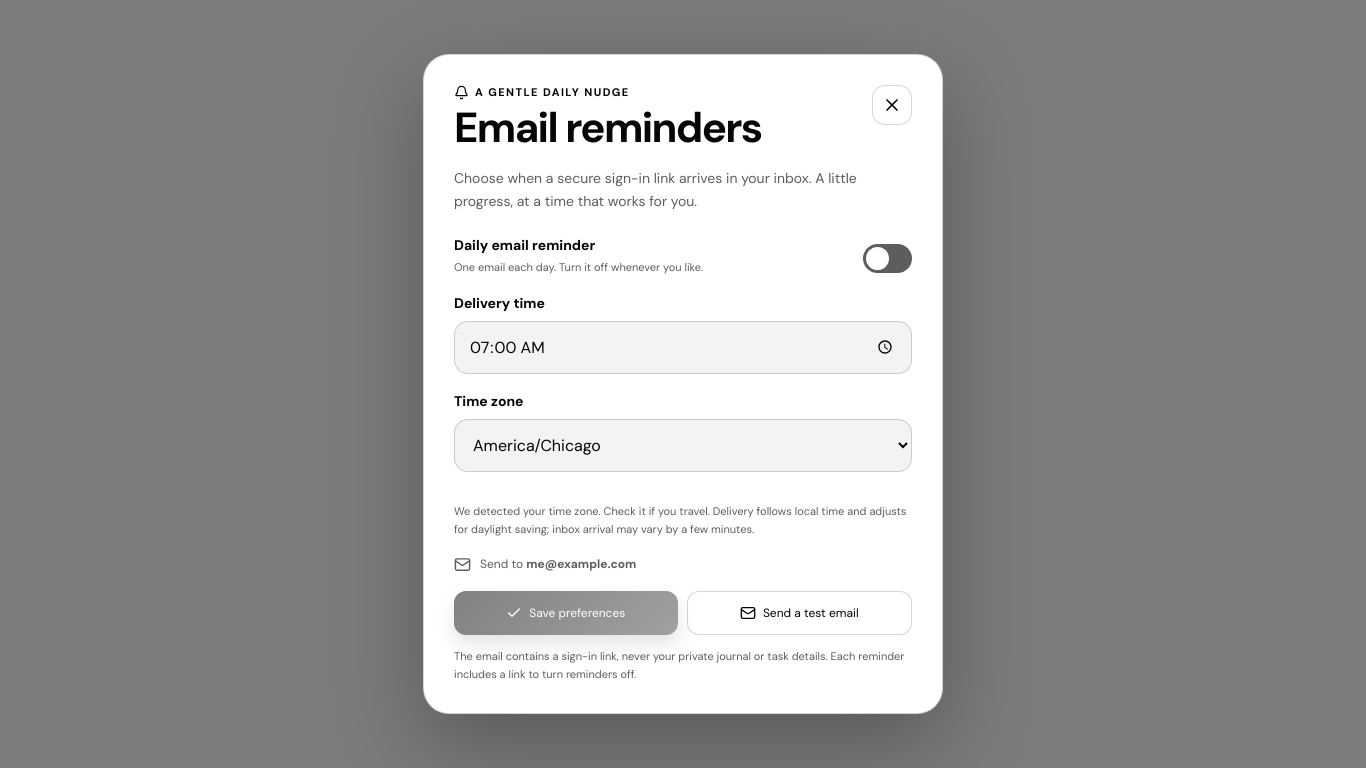
Test: keeps unsaved preferences visible after a failed save
This screenshot has width=1366, height=768.
Click the switch: (888, 259) [863,244,912,273]
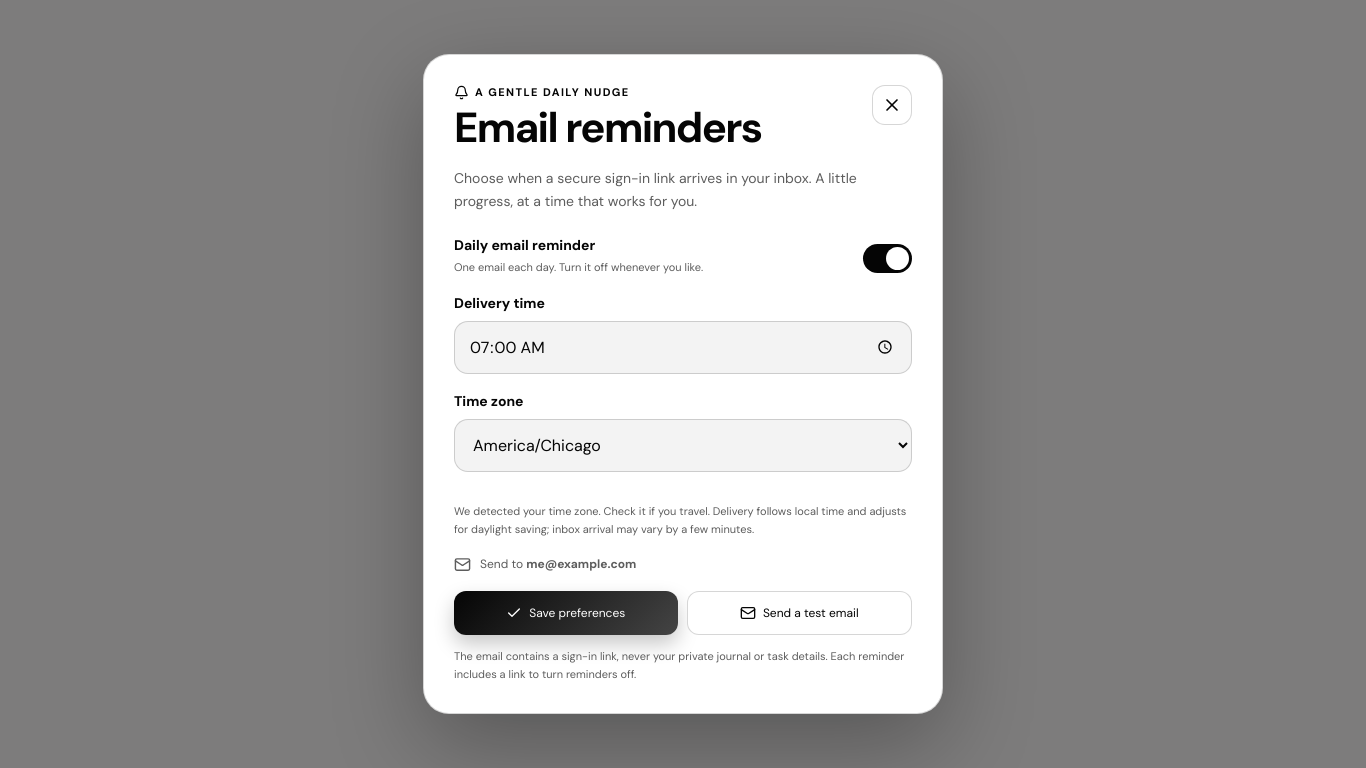
Click the button "Save preferences": (566, 613) [454,591,678,635]
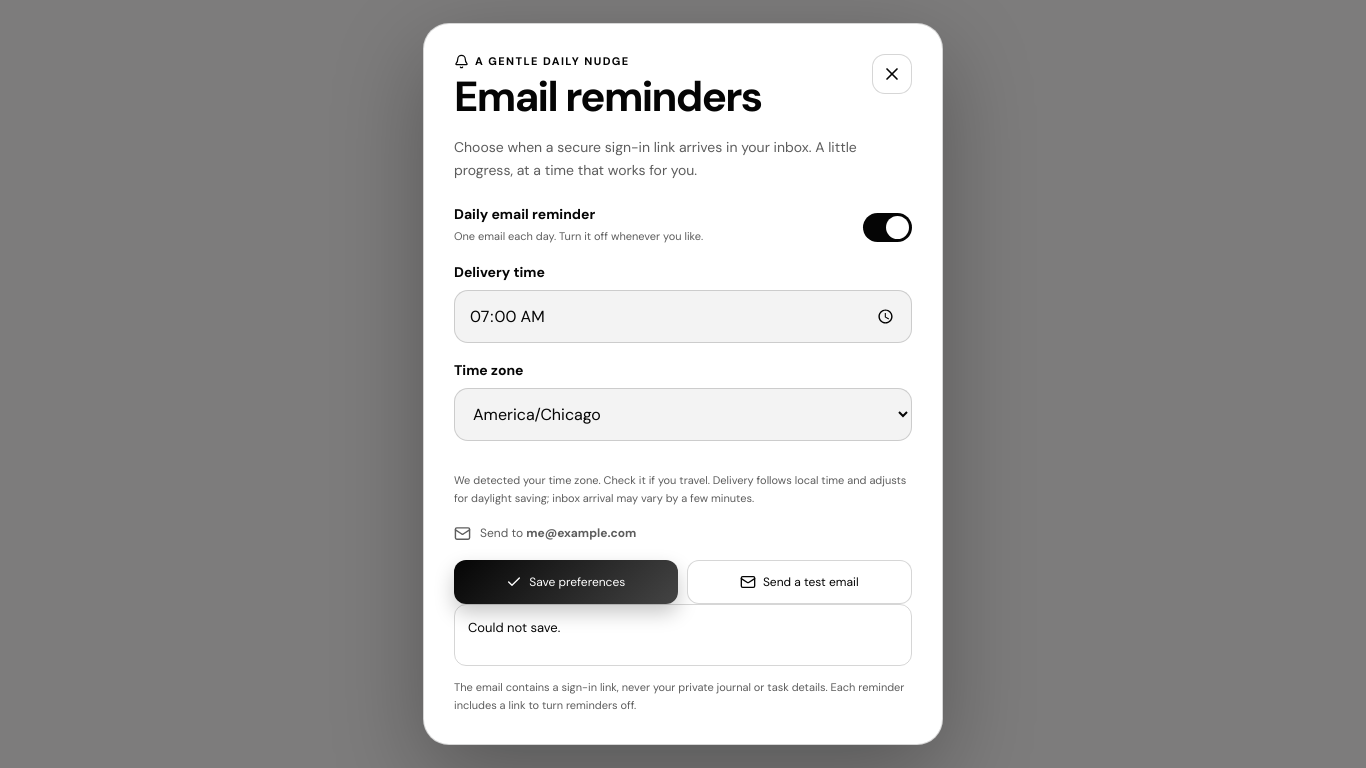
Expected: the text "Could not save." is shown, [468,619,560,636]
